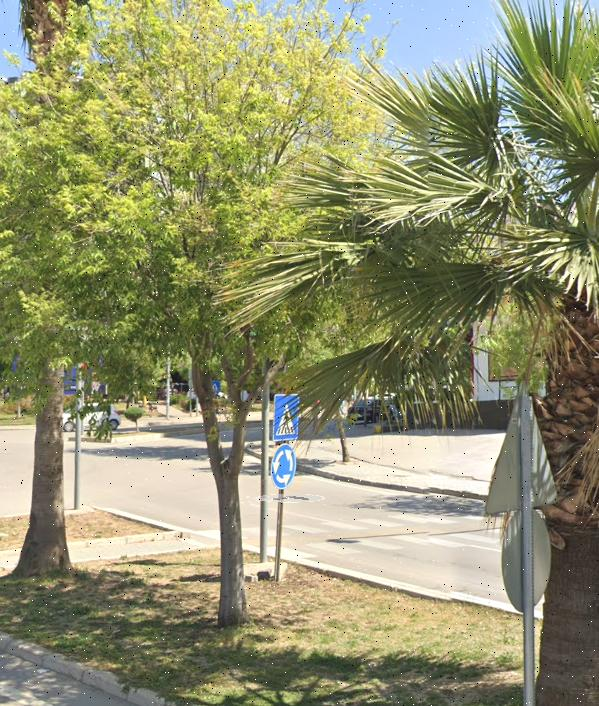crossroads: (272, 445, 294, 486)
